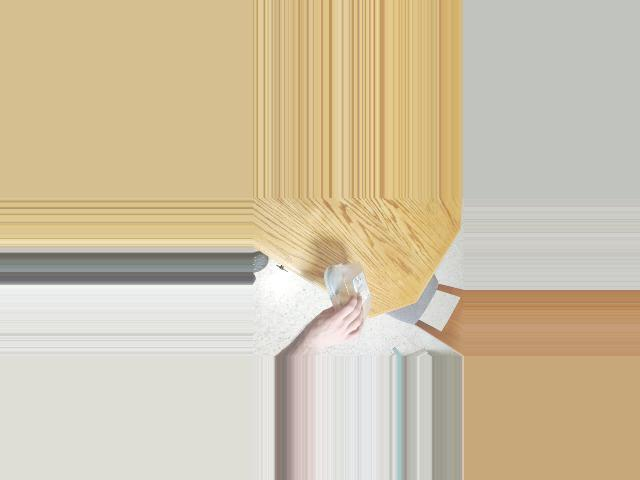cheese: (322, 281, 369, 334)
